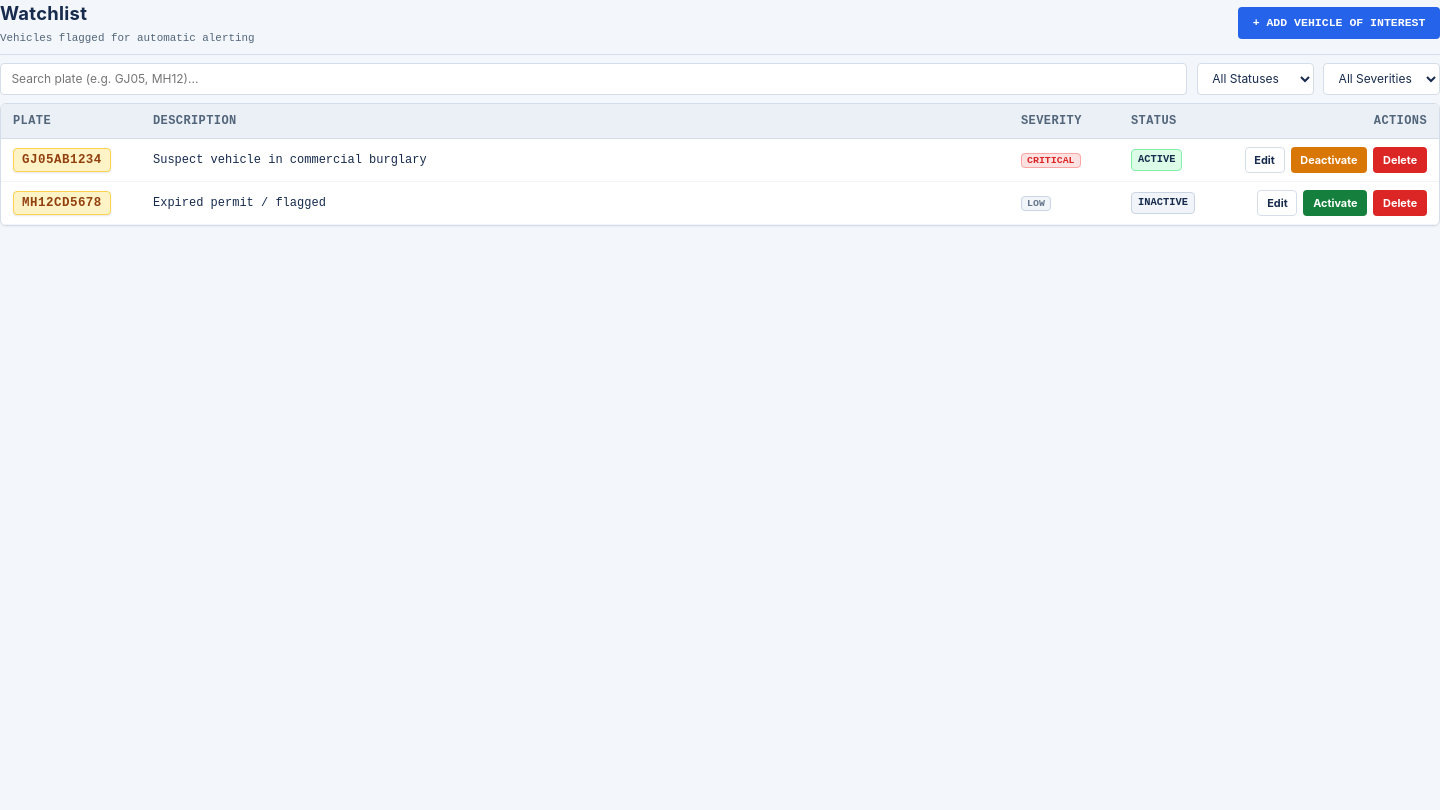
Test: WatchlistManager Component Tests › 6: Quick toggle and delete confirmation work as expected
The image size is (1440, 810).
Expected: the text "GJ05AB1234" is shown, [13, 148, 111, 172]
Quick toggle Deactivate on active row
Click the button "Deactivate" at x=1329, y=160, box [1290, 147, 1367, 173]
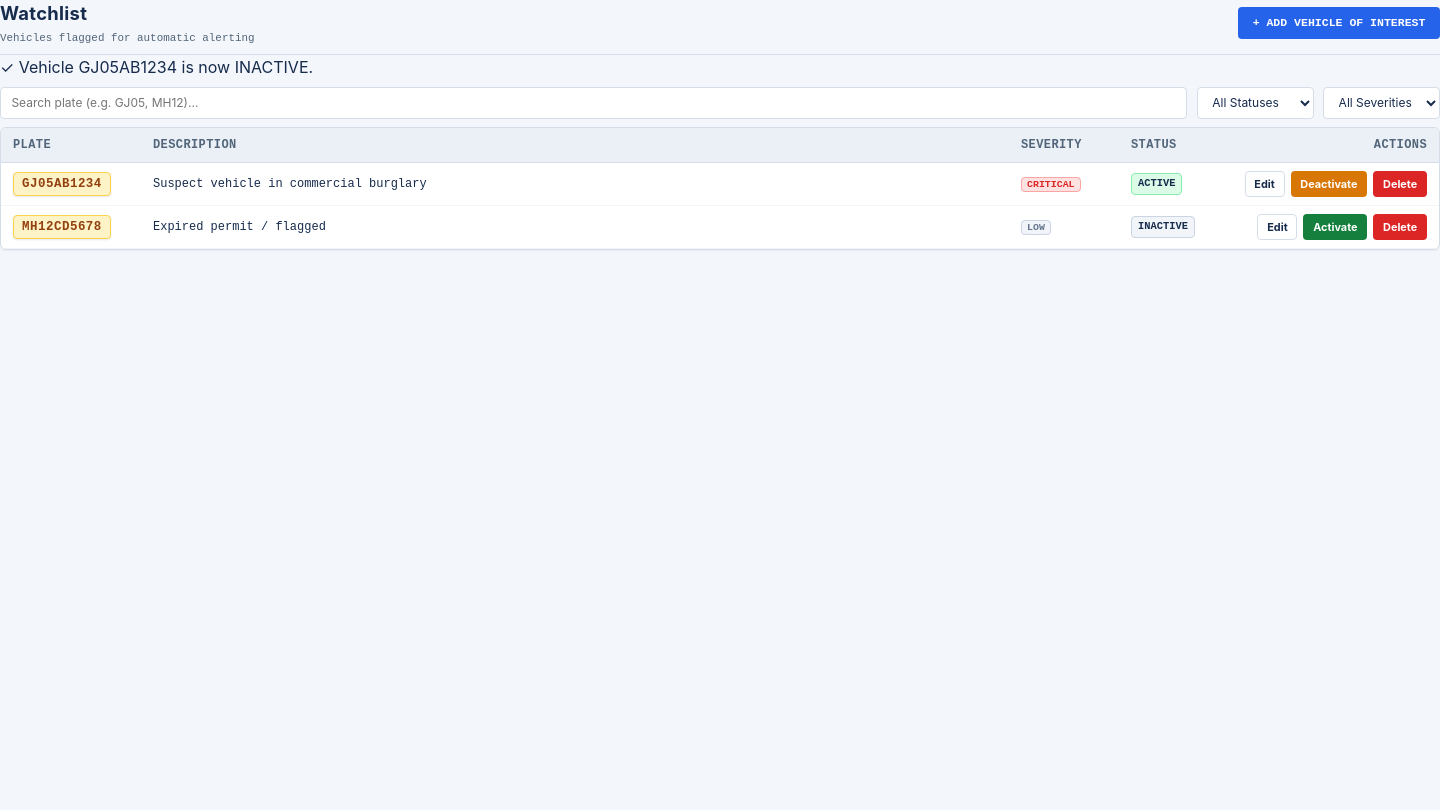
Now the text "✓ Vehicle GJ05AB1234 is now INACTIVE." is shown, box [0, 57, 313, 77]
Click Delete on first row
Click the button "Delete" in the row of "Suspect vehicle in commercial burglary" at x=1400, y=184, box [1373, 171, 1427, 197]
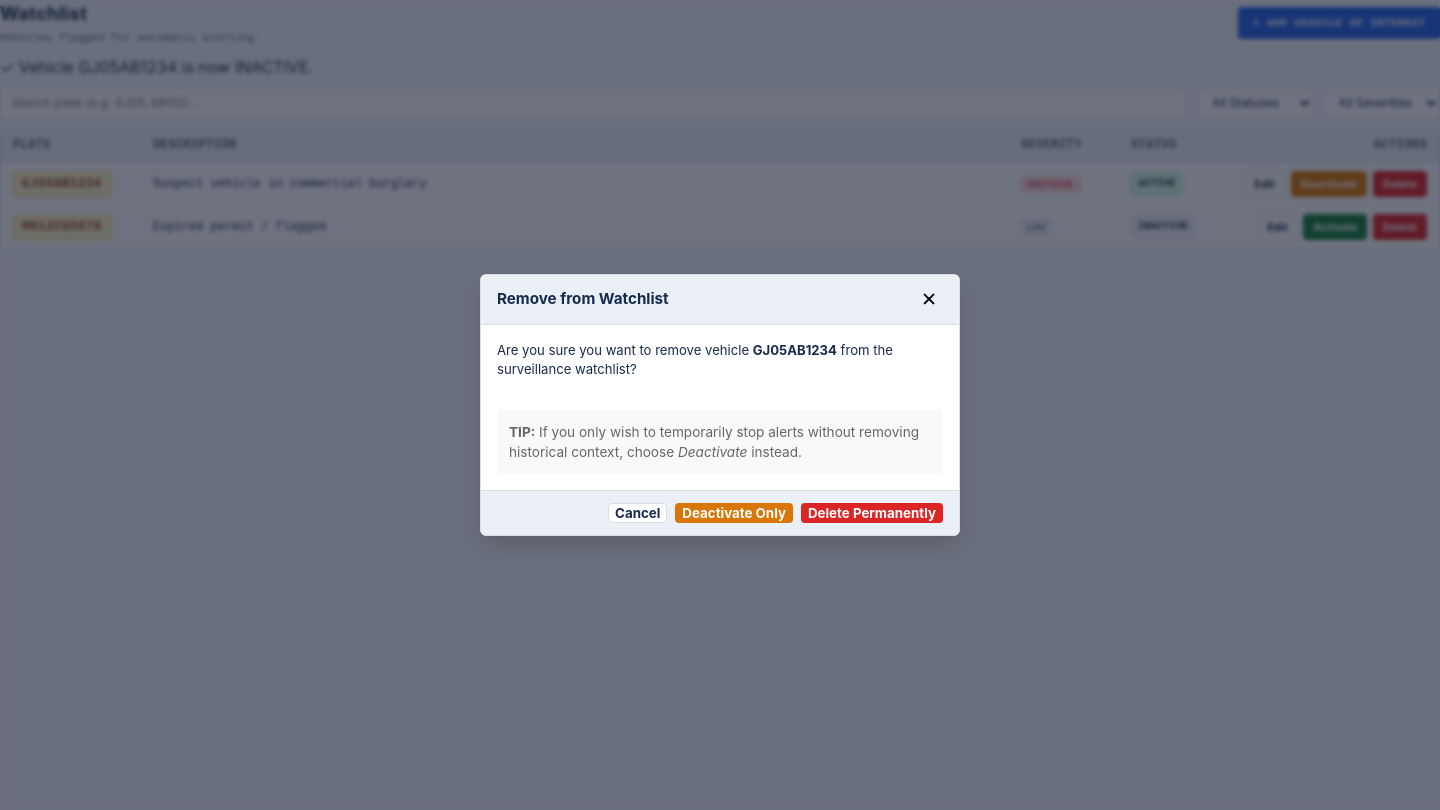
Now the heading "Remove from Watchlist" is shown, box [497, 288, 669, 310]
Now the text "Are you sure you want to remove vehicle" is shown, box [497, 342, 749, 358]
Confirm permanent deletion
Click the button "Delete Permanently" at x=872, y=513, box [801, 503, 943, 523]
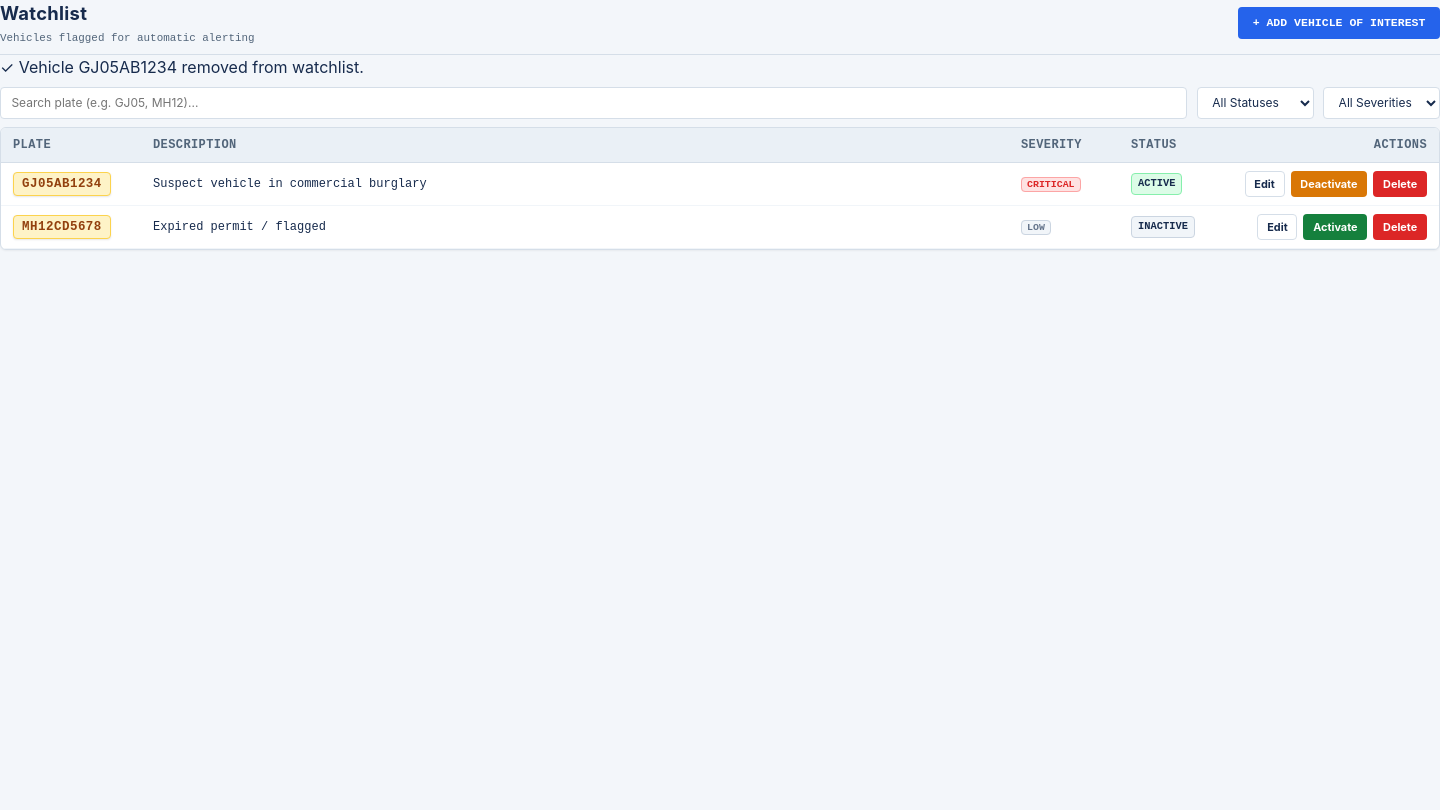
Now the text "✓ Vehicle GJ05AB1234 removed from watchlist." is shown, box [0, 57, 364, 77]
